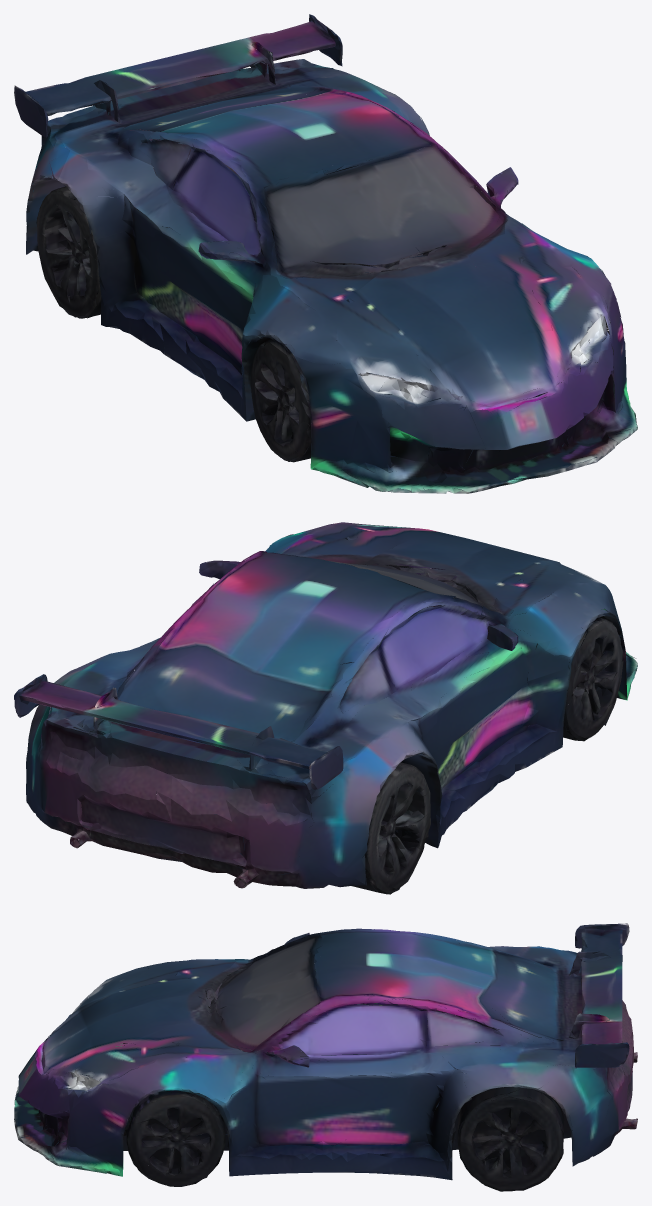
Rendered from exotichypercar_armor2.glb.
3 renders of one model, top to bottom at view 1: azimuth 30°, elevation 25°; view 2: azimuth 150°, elevation 25°; view 3: azimuth 270°, elevation 25°, orthographic. The views are drawn at different scales.
Parts seen in each view (by area): view 1: Armor_Exotic_Hypercar.001; view 2: Armor_Exotic_Hypercar.001; view 3: Armor_Exotic_Hypercar.001.
Boxes of the visible parts, x1=… form: Armor_Exotic_Hypercar.001: x1=14, y1=14, x2=637, y2=493; Armor_Exotic_Hypercar.001: x1=14, y1=522, x2=637, y2=894; Armor_Exotic_Hypercar.001: x1=14, y1=923, x2=637, y2=1191.
Size of the model in its own units: 0.631 by 0.353 by 1.2.
1 material, 1 textured.
